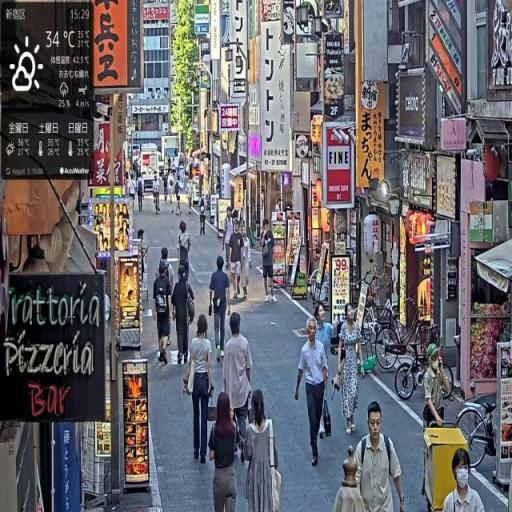person: (337, 398, 407, 512), (294, 319, 331, 470), (184, 314, 217, 464), (243, 388, 282, 512), (224, 311, 255, 465), (335, 304, 366, 437), (209, 390, 242, 512), (420, 339, 453, 441), (315, 307, 340, 440), (442, 448, 486, 512), (172, 262, 197, 367), (209, 255, 233, 364), (154, 259, 174, 366), (260, 217, 277, 304), (228, 223, 246, 302), (240, 223, 253, 300), (177, 220, 192, 284), (224, 205, 237, 271), (198, 190, 209, 238), (152, 176, 164, 217), (174, 173, 184, 216), (187, 176, 196, 215), (137, 175, 145, 213), (129, 174, 137, 212)
